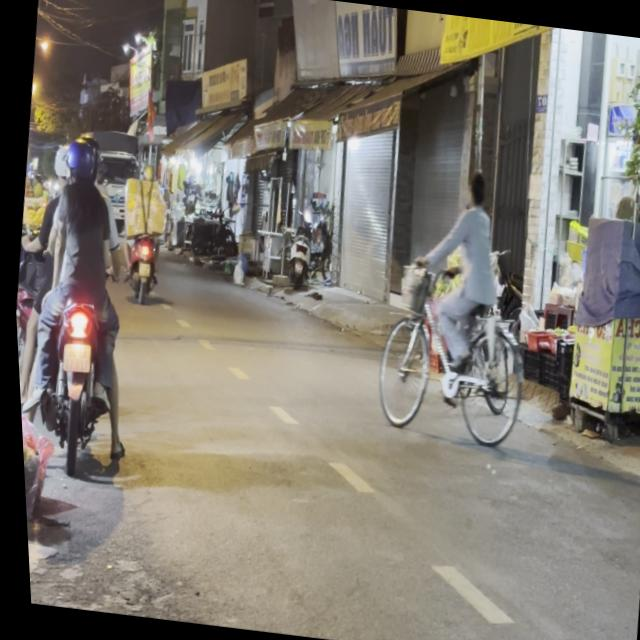helmet: (63, 131, 100, 184), (47, 138, 76, 188)
licenseplate: (5, 119, 157, 473)
nohelmet: (58, 339, 88, 370)
